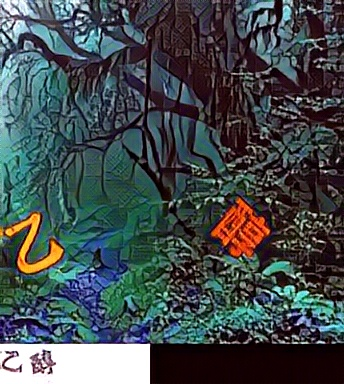B4BC: (209, 192, 272, 258)
D2D2: (4, 210, 67, 276)
